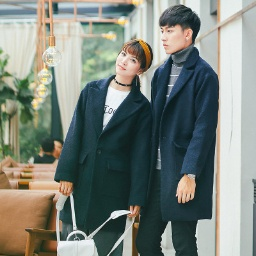face: (158, 4, 201, 55), (115, 39, 153, 79)
